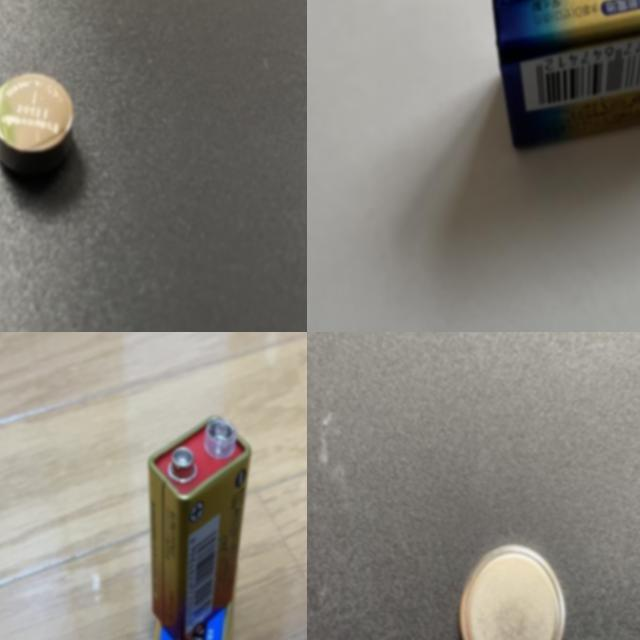9V: (147, 412, 252, 640), (489, 0, 640, 150), (144, 559, 239, 640)
